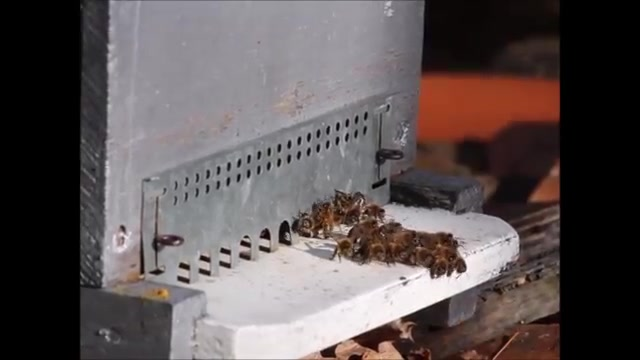bee: (379, 224, 457, 248), (322, 190, 363, 229), (395, 244, 447, 273), (337, 234, 360, 261), (364, 201, 391, 223), (364, 241, 389, 264), (444, 248, 467, 272), (298, 215, 322, 235)
